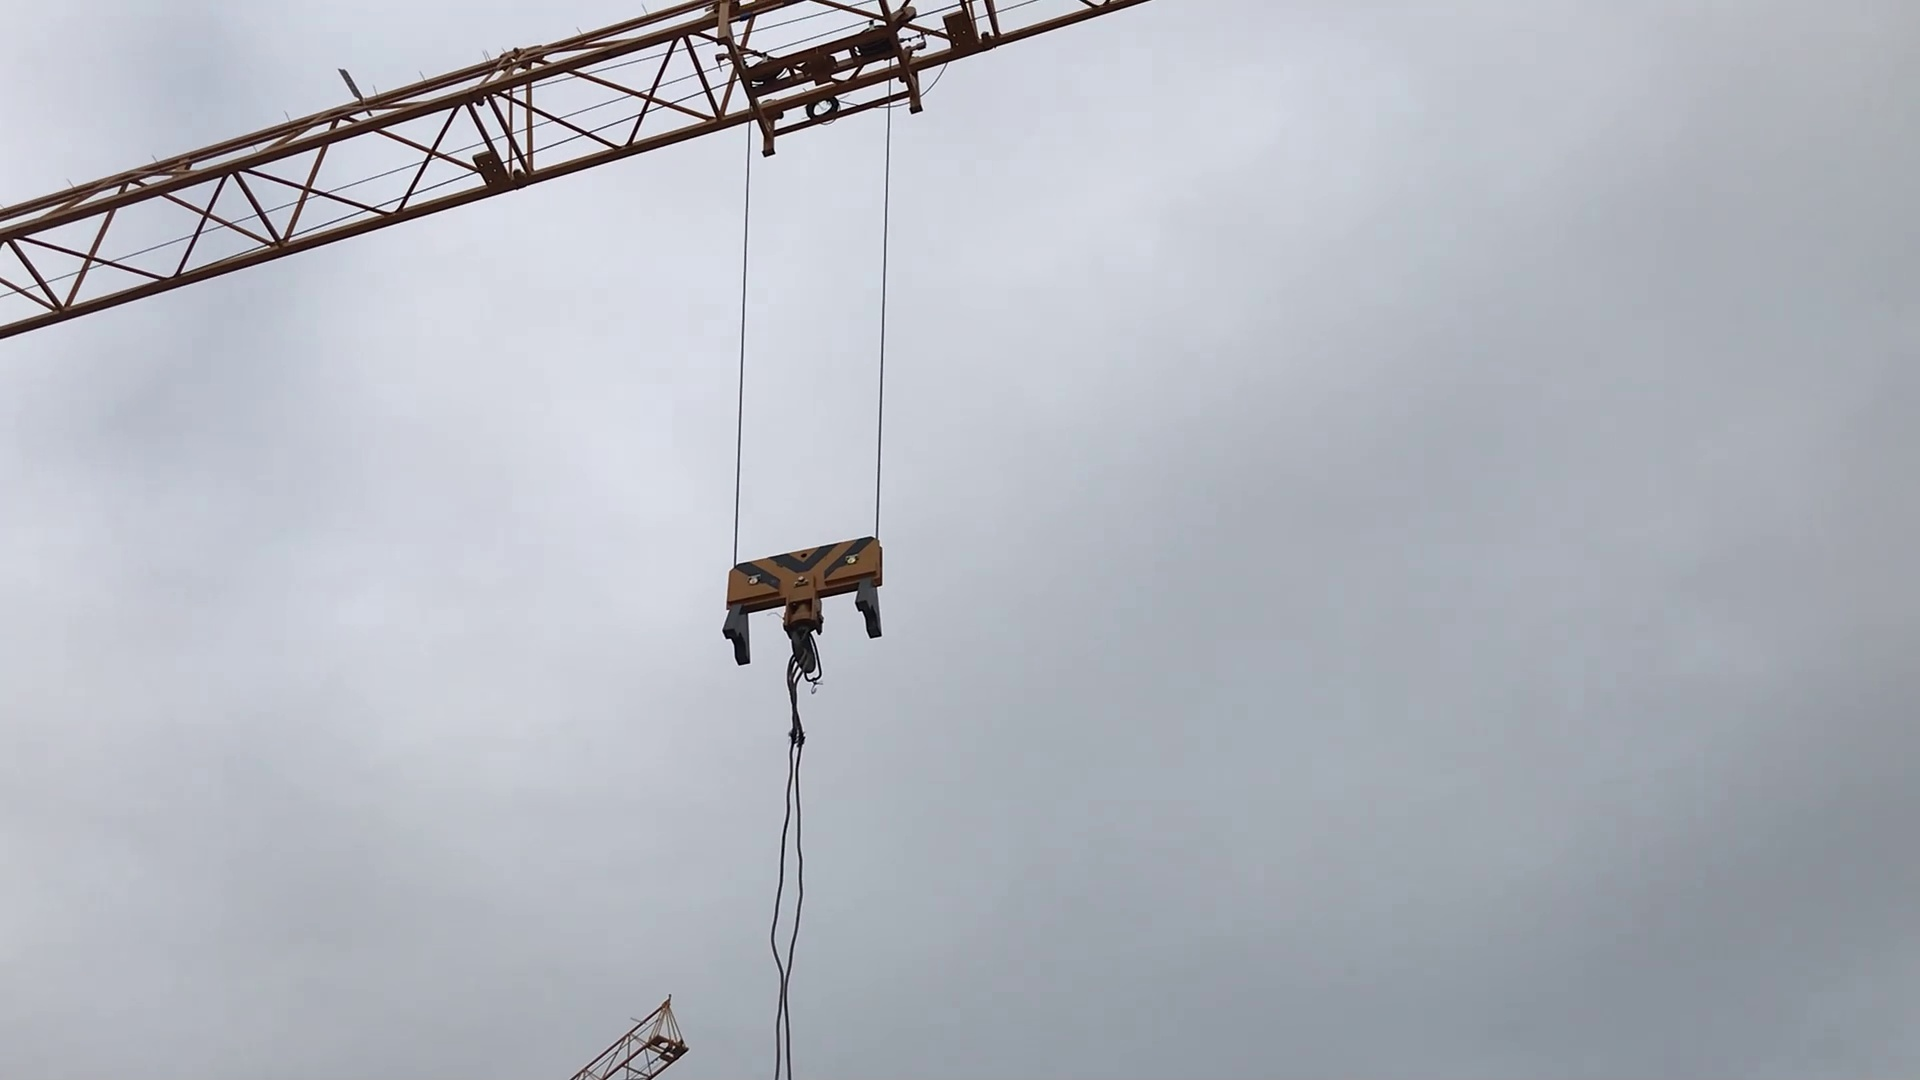hook: (709, 524, 914, 694)
